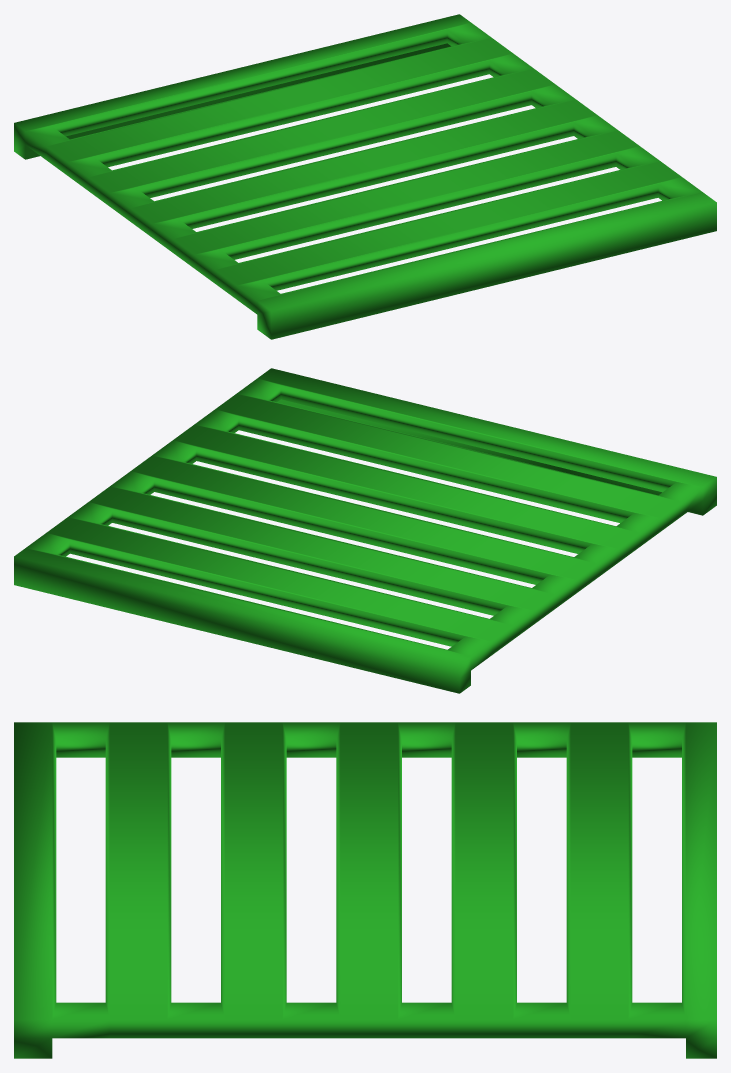
Rendered from Pallet.fbx.
3 renders of one model, top to bottom at view 1: azimuth 30°, elevation 25°; view 2: azimuth 150°, elevation 25°; view 3: azimuth 270°, elevation 25°, orthographic. The views are drawn at different scales.
Visible parts, largest first — view 1: Pallet:Box001; view 2: Pallet:Box001; view 3: Pallet:Box001.
Boxes of the visible parts, box(x1,y1,x2,y2) form: Pallet:Box001: box(14, 14, 716, 339); Pallet:Box001: box(14, 368, 716, 693); Pallet:Box001: box(14, 722, 716, 1058).
Size of the model in its own units: 10 by 0.6124 by 10.
